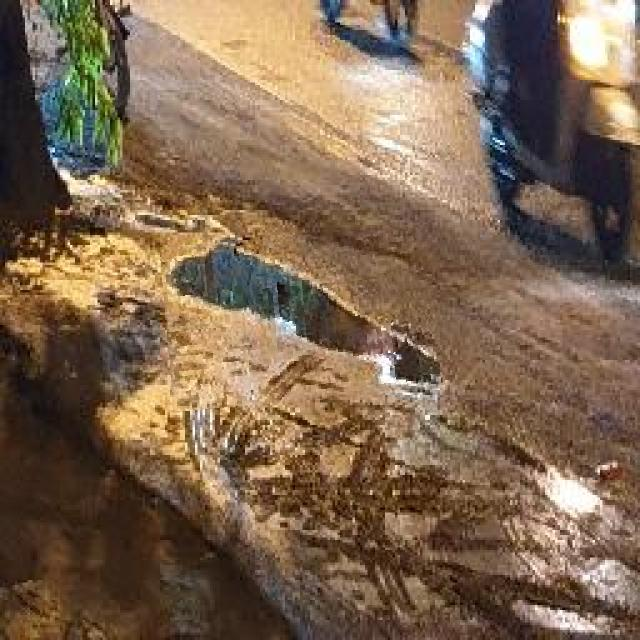puddle: (164, 231, 439, 407)
